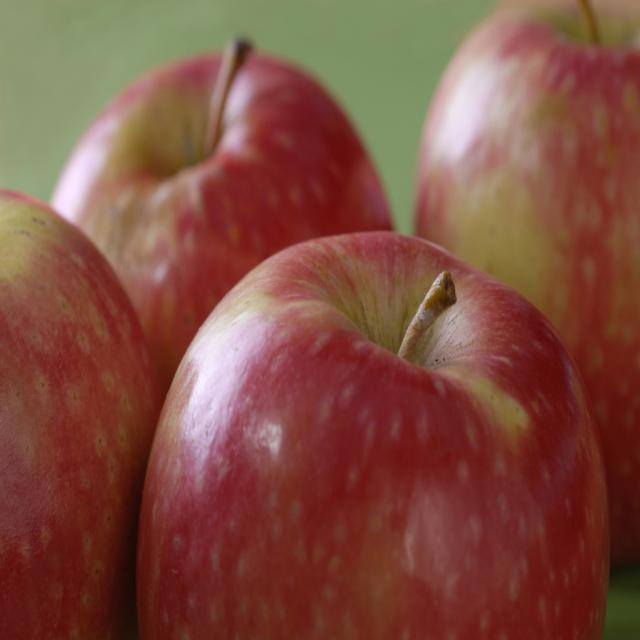Healty Apple: (118, 229, 610, 640), (45, 29, 394, 407), (412, 0, 640, 567), (0, 183, 162, 639)
